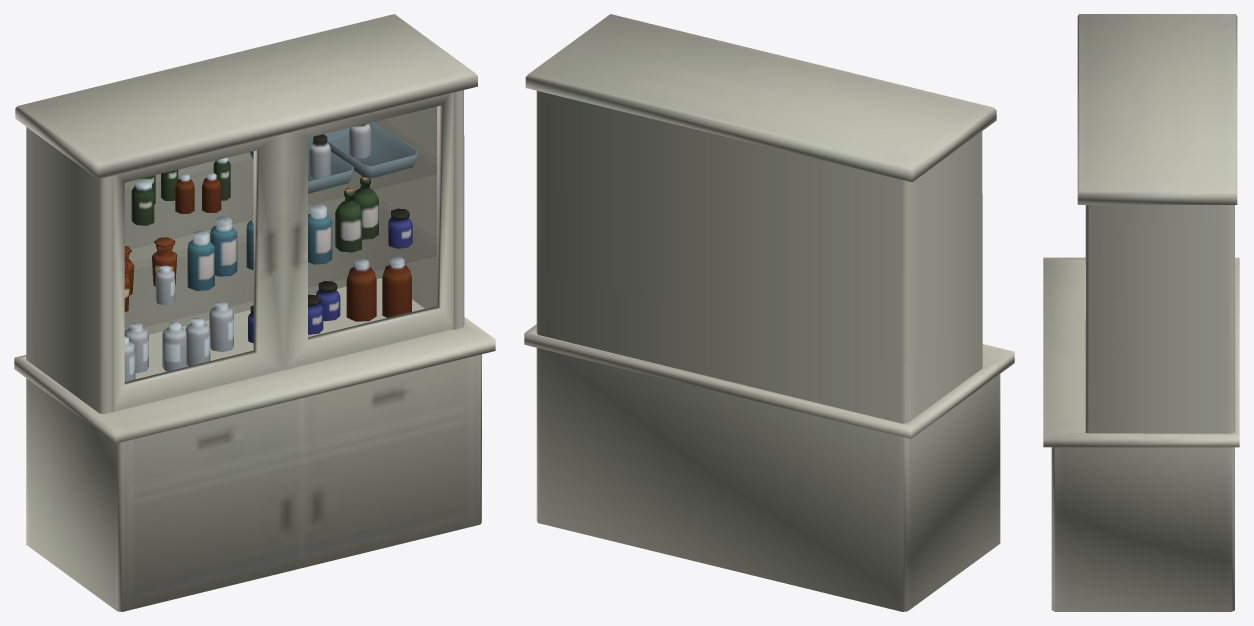
The picture shows the model from 3 angles, left to right: view 1: azimuth 30°, elevation 25°; view 2: azimuth 150°, elevation 25°; view 3: azimuth 270°, elevation 25°; orthographic projection. The views are drawn at different scales.
Bounding box in the file's own units: 18 × 19.87 × 8.35.
Materials: 3 (3 with a texture image).
